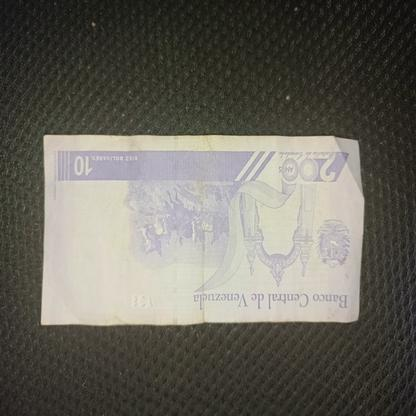ten-back-vef: (42, 135, 364, 324)
